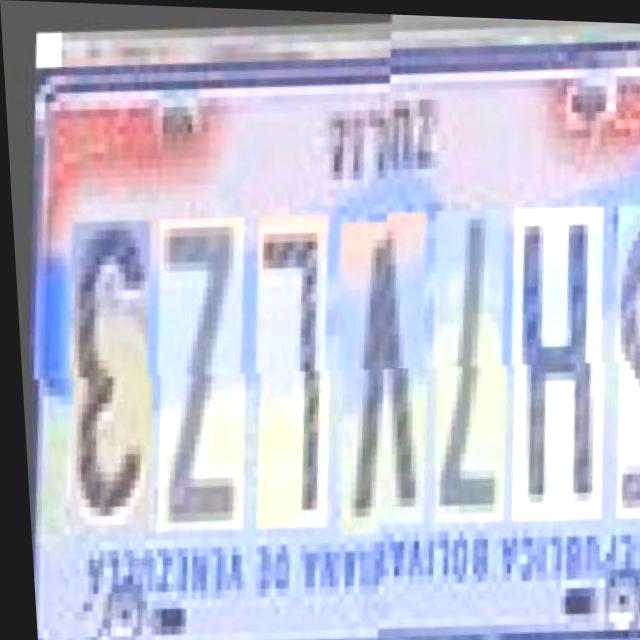3: (40, 200, 154, 519)
5: (587, 195, 640, 513)
7: (405, 200, 509, 519)
h: (483, 197, 608, 517)
l: (227, 195, 331, 514)
v: (311, 202, 430, 521)
z: (129, 197, 248, 516)
